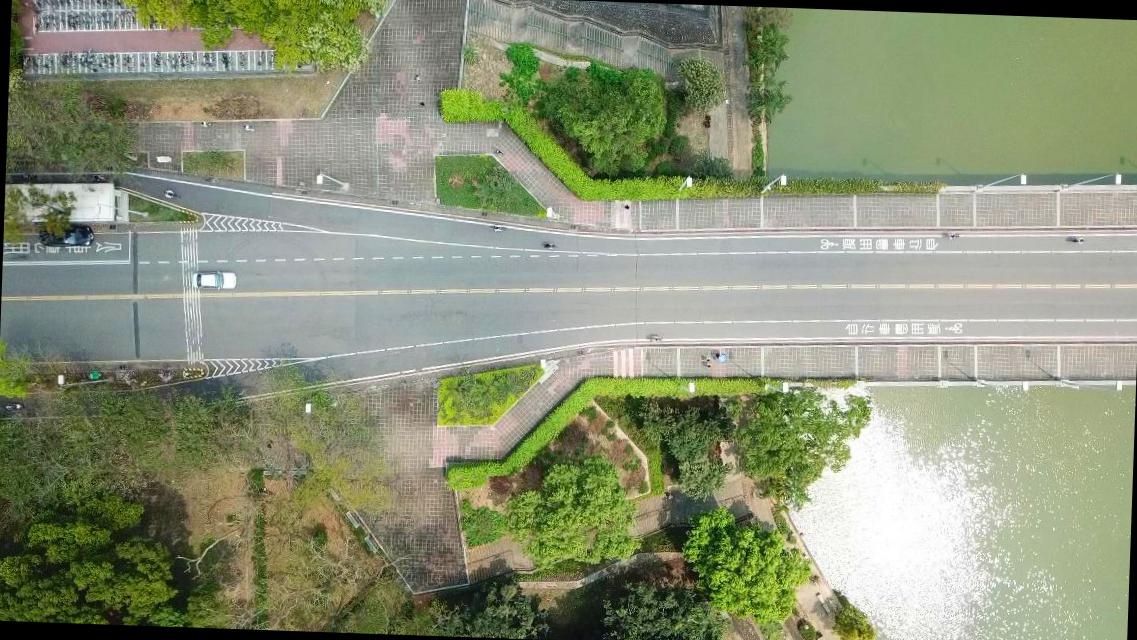vehicle: (38, 222, 93, 248), (190, 268, 236, 290)
